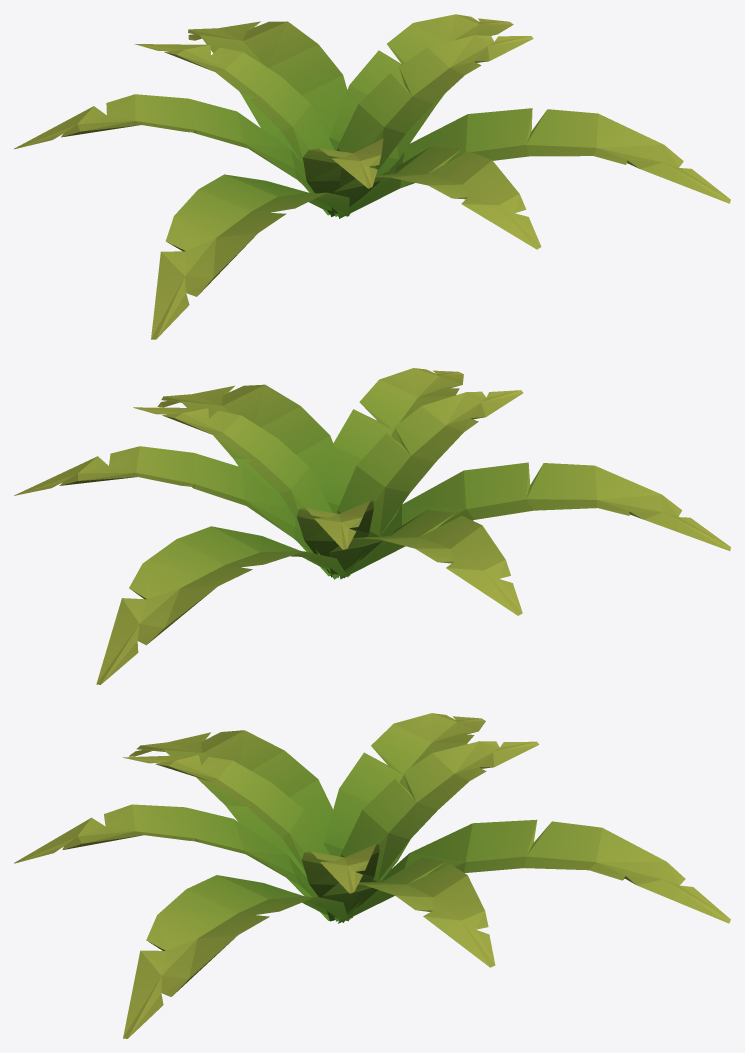
Rendered from Plant_02.fbx.
The picture shows the model from 3 angles, top to bottom: view 1: azimuth 30°, elevation 25°; view 2: azimuth 150°, elevation 25°; view 3: azimuth 270°, elevation 25°; orthographic projection.
Visible parts, largest first — view 1: Plant_02; view 2: Plant_02; view 3: Plant_02.
Boxes of the visible parts, x1,y1,x2,y2 form: Plant_02: (14, 14, 730, 339); Plant_02: (14, 368, 730, 684); Plant_02: (14, 713, 730, 1038).
Size of the model in its own units: 118 by 25.92 by 127.
